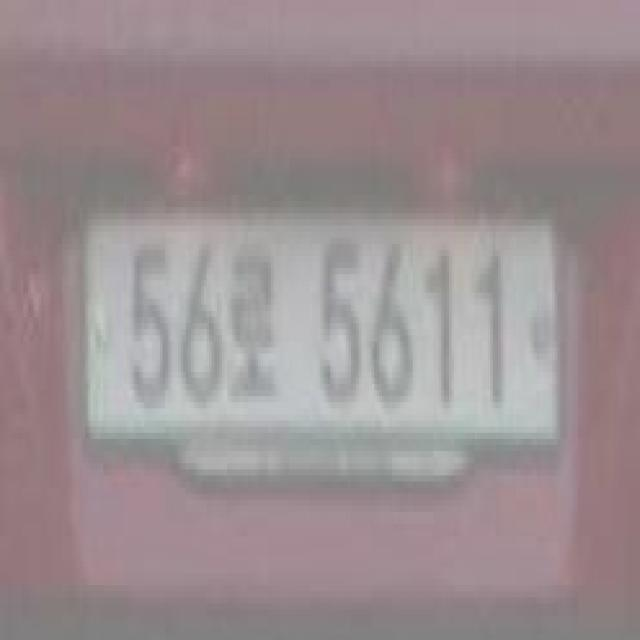illegal_plate: (89, 182, 565, 509)
